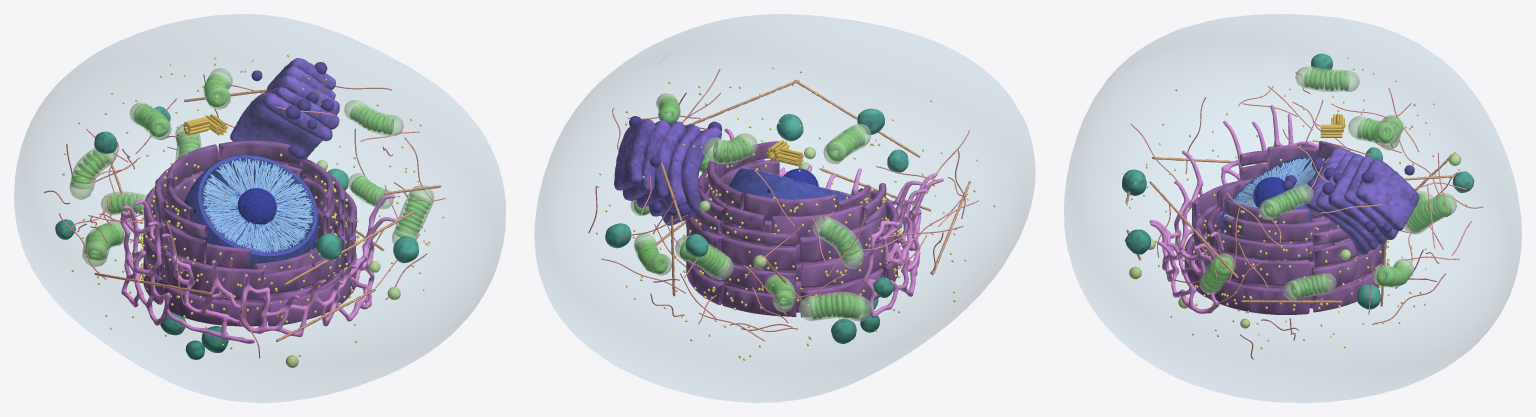
The model's file is celula-ra.glb.
3 renders of one model, left to right at view 1: azimuth 30°, elevation 25°; view 2: azimuth 150°, elevation 25°; view 3: azimuth 270°, elevation 25°, orthographic. The views are drawn at different scales.
Visible parts, largest first — view 1: membrana_plasmatica, reticulo_endoplasmatico_rugoso, mitocondrias_membrana, reticulo_endoplasmatico_liso, cromatina, mitocondrias_cristas, cisternas_golgi, envoltorio_nuclear, lisossomos, microfilamentos, microtubulos, nucleolo (+7 smaller); view 2: membrana_plasmatica, reticulo_endoplasmatico_rugoso, mitocondrias_membrana, cisternas_golgi, mitocondrias_cristas, reticulo_endoplasmatico_liso, lisossomos, microfilamentos, envoltorio_nuclear, microtubulos, ribossomos_RER, ribossomos_livres (+3 smaller); view 3: membrana_plasmatica, reticulo_endoplasmatico_rugoso, mitocondrias_membrana, cisternas_golgi, mitocondrias_cristas, reticulo_endoplasmatico_liso, microfilamentos, lisossomos, microtubulos, cromatina, vesiculas_golgi, ribossomos_RER (+5 smaller).
Part boxes in pixels (<box>): membrana_plasmatica: <box>14,14,505,402</box>; reticulo_endoplasmatico_rugoso: <box>143,140,357,326</box>; mitocondrias_membrana: <box>69,68,434,267</box>; reticulo_endoplasmatico_liso: <box>120,194,396,343</box>; cromatina: <box>202,158,313,252</box>; mitocondrias_cristas: <box>71,74,430,260</box>; cisternas_golgi: <box>230,58,339,158</box>; envoltorio_nuclear: <box>183,155,318,269</box>; lisossomos: <box>55,106,418,359</box>; microfilamentos: <box>44,74,445,358</box>; microtubulos: <box>94,89,440,341</box>; nucleolo: <box>237,188,276,224</box>; membrana_plasmatica: <box>534,14,1035,402</box>; reticulo_endoplasmatico_rugoso: <box>685,141,898,317</box>; mitocondrias_membrana: <box>630,93,871,321</box>; cisternas_golgi: <box>614,119,721,225</box>; mitocondrias_cristas: <box>634,96,864,318</box>; reticulo_endoplasmatico_liso: <box>724,128,943,317</box>; lisossomos: <box>605,108,908,343</box>; microfilamentos: <box>588,69,978,341</box>; envoltorio_nuclear: <box>729,168,850,221</box>; microtubulos: <box>656,79,970,304</box>; ribossomos_RER: <box>683,153,901,310</box>; ribossomos_livres: <box>595,67,995,360</box>; membrana_plasmatica: <box>1064,14,1521,402</box>; reticulo_endoplasmatico_rugoso: <box>1184,141,1386,314</box>; mitocondrias_membrana: <box>1199,66,1456,300</box>; cisternas_golgi: <box>1305,148,1419,255</box>; mitocondrias_cristas: <box>1203,68,1451,298</box>; reticulo_endoplasmatico_liso: <box>1149,105,1318,313</box>; microfilamentos: <box>1130,72,1483,359</box>; lisossomos: <box>1122,53,1474,309</box>; microtubulos: <box>1125,152,1455,306</box>; cromatina: <box>1223,158,1315,218</box>; vesiculas_golgi: <box>1282,157,1414,233</box>; ribossomos_RER: <box>1182,141,1389,310</box>.
Bounding box in the file's own units: 0.4312 × 0.3351 × 0.4191.
